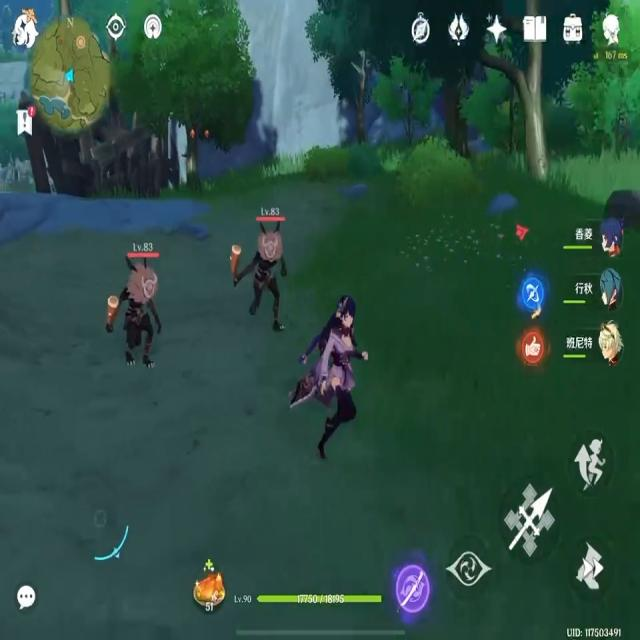genshin-hilichurls: (106, 256, 160, 373), (232, 222, 284, 329)
